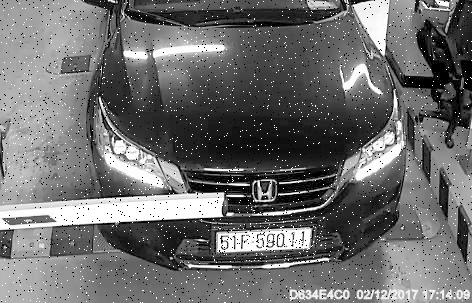License-plate: (214, 218, 329, 263)
